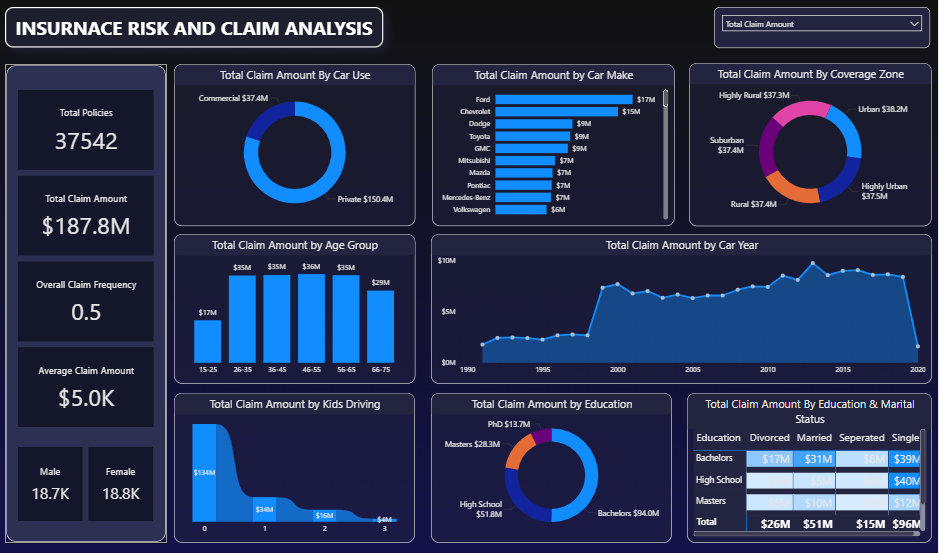

What the dashboard file says about the page in this screenshot:
{"tool":"powerbi","page":{"name":"Page 1","canvas":[1600,950],"ordinal":0},"visuals":[{"type":"textbox","box":[10.9,12.7,643.6,69.1],"z":0},{"type":"shape","box":[10.3,108.6,275.9,815.5],"z":1000},{"type":"cardVisual","fields":{"Data":["insurance_data_car.Total Policies","insurance_data_car.Total Claim Amount","Avg(insurance_data_car.Claim Freq)","insurance_data_car.Average Claim Amount"]},"box":[27.3,147.3,241.8,585.5],"z":2000},{"type":"cardVisual","fields":{"Data":["insurance_data_car.Male Count","insurance_data_car.Female Count"]},"box":[27.3,756.4,241.8,136.4],"z":3000},{"type":"slicer","fields":{"Values":["Select Measure.Select Measure"]},"box":[1217.9,12.5,367.9,69.6],"z":4000},{"type":"donutChart","title":"Total Claim Amount By Car Use","fields":{"Y":["insurance_data_car.Total Claim Amount"],"Category":["insurance_data_car.Car Use"]},"box":[298.1,109.3,411.1,275.9],"z":5000},{"type":"barChart","fields":{"Y":["insurance_data_car.Total Claim Amount"],"Category":["insurance_data_car.Car Make"]},"box":[737,109.3,413,275.9],"z":6000},{"type":"donutChart","title":"Total Claim Amount By Coverage Zone","fields":{"Y":["insurance_data_car.Total Claim Amount"],"Category":["insurance_data_car.Coverage Zone"]},"box":[1174.1,107.4,413,277.8],"z":7000},{"type":"clusteredColumnChart","fields":{"Y":["insurance_data_car.Total Claim Amount"],"Category":["insurance_data_car.Age Group"]},"box":[298.7,398.7,410.5,255.3],"z":8000},{"type":"ribbonChart","fields":{"Y":["insurance_data_car.Total Claim Amount"],"Category":["insurance_data_car.Kids Driving"]},"box":[298.3,669,410.3,255.2],"z":9000},{"type":"areaChart","fields":{"Y":["insurance_data_car.Total Claim Amount"],"Category":["insurance_data_car.Car Year"]},"box":[735.5,398.4,853,255.4],"z":10000},{"type":"pivotTable","title":"Total Claim Amount By Education & Marital Status","fields":{"Rows":["insurance_data_car.Education"],"Columns":["insurance_data_car.Marital Status"],"Values":["insurance_data_car.Total Claim Amount"]},"box":[1171.3,669.1,417.1,255.4],"z":11000},{"type":"pieChart","fields":{"Y":["insurance_data_car.Total Claim Amount"],"Category":["insurance_data_car.Education"]},"box":[736.2,669,410.3,255.2],"z":12000}]}

Visuals, with their boxes in screenshot pixels (x1, y1, x2, y2), scaled from the page's 1600x950 canvas onto the 939x553 screenshot:
textbox: detection(6, 7, 384, 48)
shape: detection(6, 63, 168, 538)
cardVisual - insurance_data_car.Total Policies x insurance_data_car.Total Claim Amount: detection(16, 86, 158, 427)
cardVisual - insurance_data_car.Male Count x insurance_data_car.Female Count: detection(16, 440, 158, 520)
slicer - Select Measure.Select Measure: detection(715, 7, 931, 48)
"Total Claim Amount By Car Use" donutChart: detection(175, 64, 416, 224)
barChart - insurance_data_car.Total Claim Amount x insurance_data_car.Car Make: detection(433, 64, 675, 224)
"Total Claim Amount By Coverage Zone" donutChart: detection(689, 63, 931, 224)
clusteredColumnChart - insurance_data_car.Total Claim Amount x insurance_data_car.Age Group: detection(175, 232, 416, 381)
ribbonChart - insurance_data_car.Total Claim Amount x insurance_data_car.Kids Driving: detection(175, 389, 416, 538)
areaChart - insurance_data_car.Total Claim Amount x insurance_data_car.Car Year: detection(432, 232, 932, 381)
"Total Claim Amount By Education & Marital Status" pivotTable: detection(687, 389, 932, 538)
pieChart - insurance_data_car.Total Claim Amount x insurance_data_car.Education: detection(432, 389, 673, 538)
